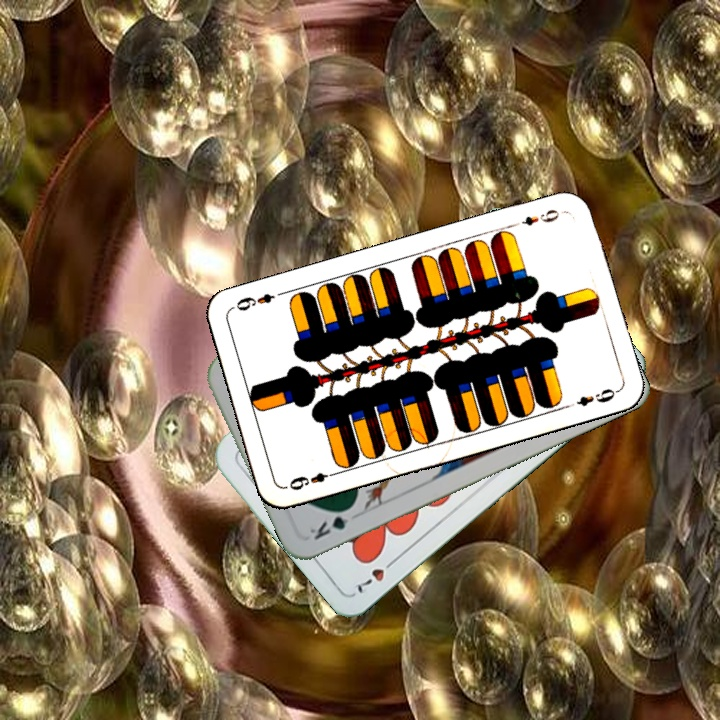E9: (285, 467, 340, 493), (518, 205, 566, 229)
GK: (305, 502, 357, 543)
H7: (350, 553, 401, 597)
